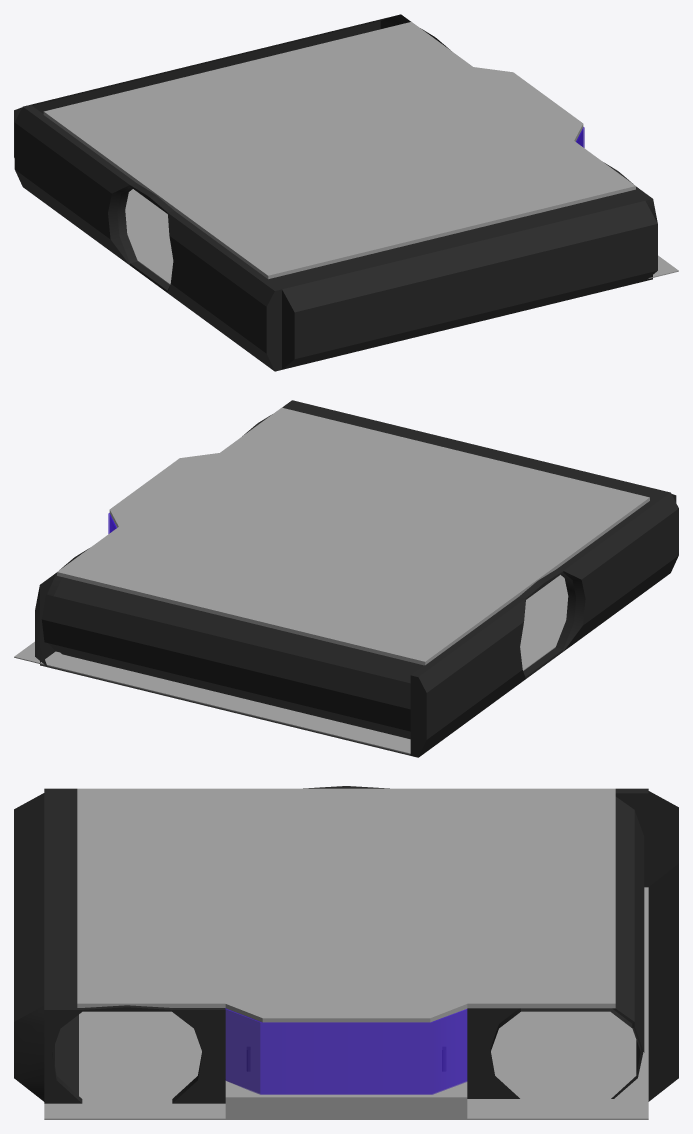
The model's file is hallway_Center.fbx.
3 views of the same model, one above another, from view 1: azimuth 30°, elevation 25°; view 2: azimuth 150°, elevation 25°; view 3: azimuth 270°, elevation 25° (orthographic). The views are drawn at different scales.
Parts seen in each view (by area): view 1: Ceiling, Door_Right, Door_Center, Door_Left, Floor; view 2: Ceiling, Door_Left, Door_Center, Floor, Door_Right; view 3: Ceiling, Floor, Door_Right, Door_Left, Window, Door_Center.
Boxes of the visible parts, box(x1,y1,x2,y2) form: Ceiling: box(43, 22, 635, 279); Door_Right: box(269, 162, 657, 369); Door_Center: box(14, 105, 282, 371); Door_Left: box(14, 14, 449, 157); Floor: box(125, 189, 678, 284); Ceiling: box(57, 407, 649, 665); Door_Left: box(35, 548, 423, 755); Door_Center: box(410, 491, 678, 757); Floor: box(14, 575, 568, 754); Door_Right: box(242, 400, 676, 502); Ceiling: box(77, 788, 615, 1022); Floor: box(44, 887, 648, 1119); Door_Right: box(14, 792, 225, 1103); Door_Left: box(467, 791, 678, 1101); Window: box(225, 1008, 467, 1094); Door_Center: box(44, 786, 648, 887).
Bounding box in the file's own units: 1889 × 368 × 2200.
